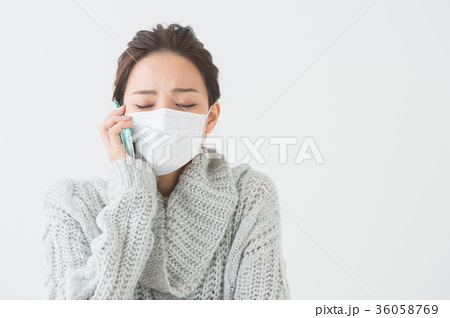mask: (121, 106, 220, 182)
